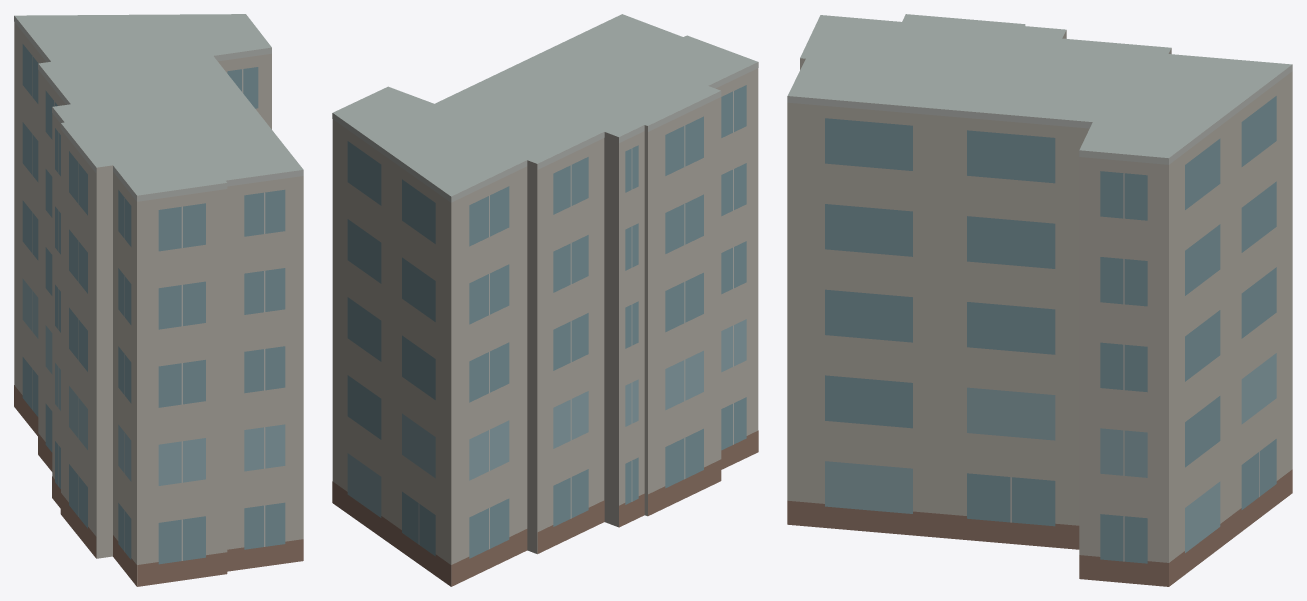
Rendered from survey-upis-32717419.glb.
3 views of the same model, side by side, from view 1: azimuth 30°, elevation 25°; view 2: azimuth 150°, elevation 25°; view 3: azimuth 270°, elevation 25° (orthographic). The views are drawn at different scales.
Parts seen in each view (by area): view 1: survey-upis-32717419.tmp; view 2: survey-upis-32717419.tmp; view 3: survey-upis-32717419.tmp.
Part boxes in pixels (x1=…): survey-upis-32717419.tmp: x1=14, y1=14, x2=303, y2=586; survey-upis-32717419.tmp: x1=332, y1=14, x2=758, y2=586; survey-upis-32717419.tmp: x1=787, y1=14, x2=1292, y2=586.
Size of the model in its own units: 11.26 by 15.6 by 16.67.
